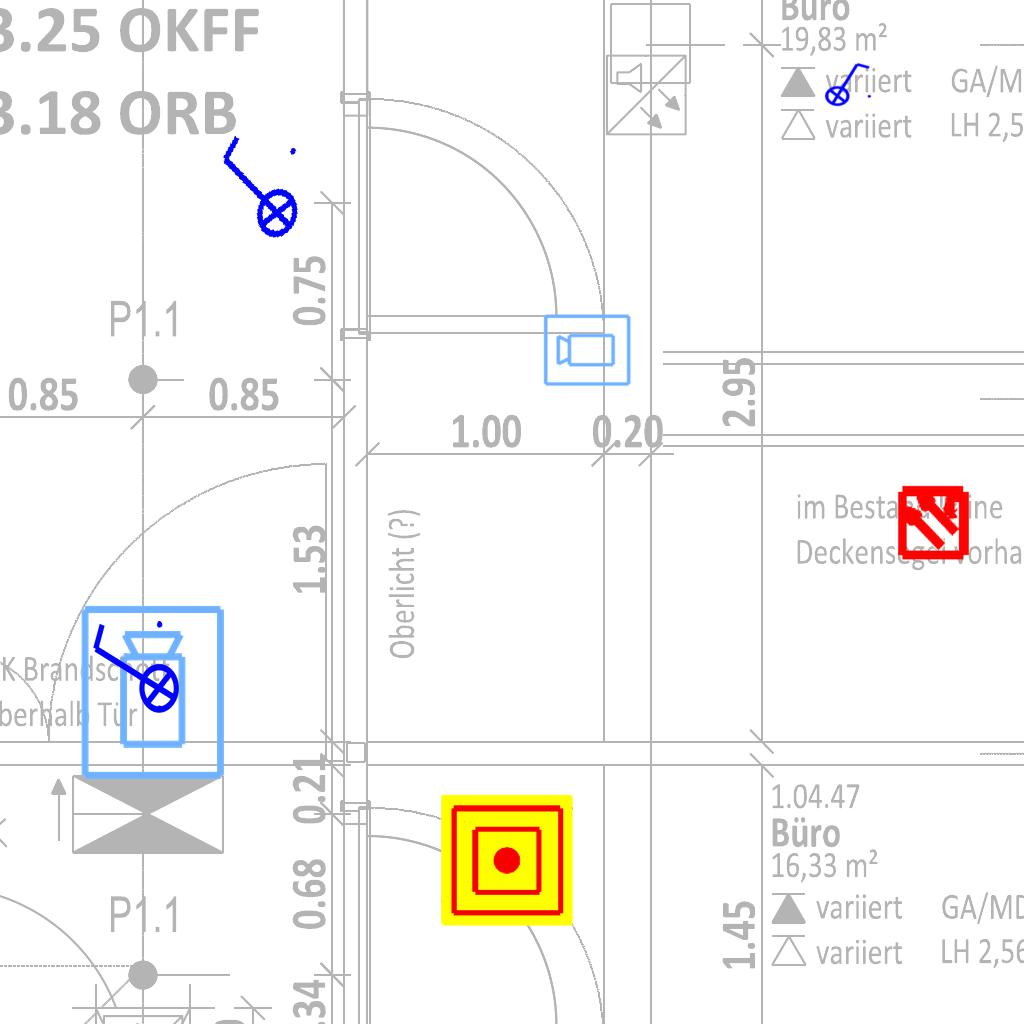Ausschalter_beleuchtet: (195, 124, 317, 256), (85, 615, 181, 727), (818, 59, 874, 107)
KFO_Kamera_mit_Festobjektiv: (77, 602, 231, 784), (542, 311, 633, 388)
NAM-Nichtautomatischer_Melder: (441, 794, 573, 926)
OT_Multisensormelder_(Kombination_RMO_WMD): (877, 464, 990, 577)
